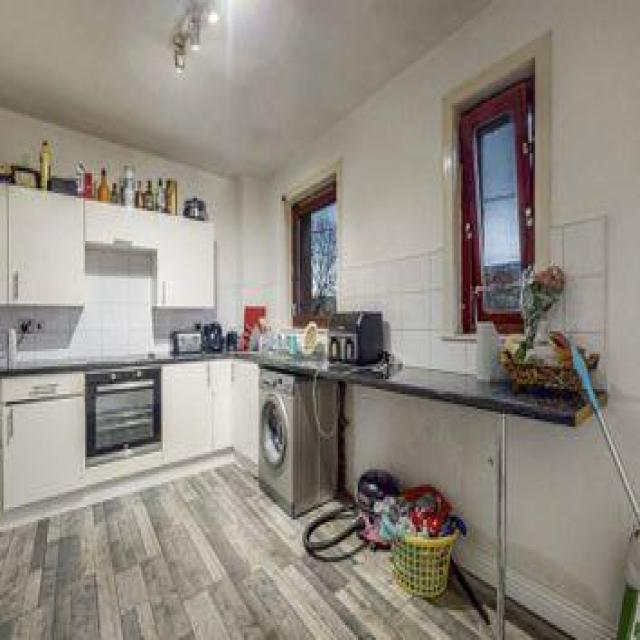Wall: (0, 0, 640, 398), (0, 463, 489, 639), (0, 0, 489, 175), (348, 384, 495, 586), (508, 415, 634, 639), (19, 248, 155, 360), (606, 399, 640, 497)
